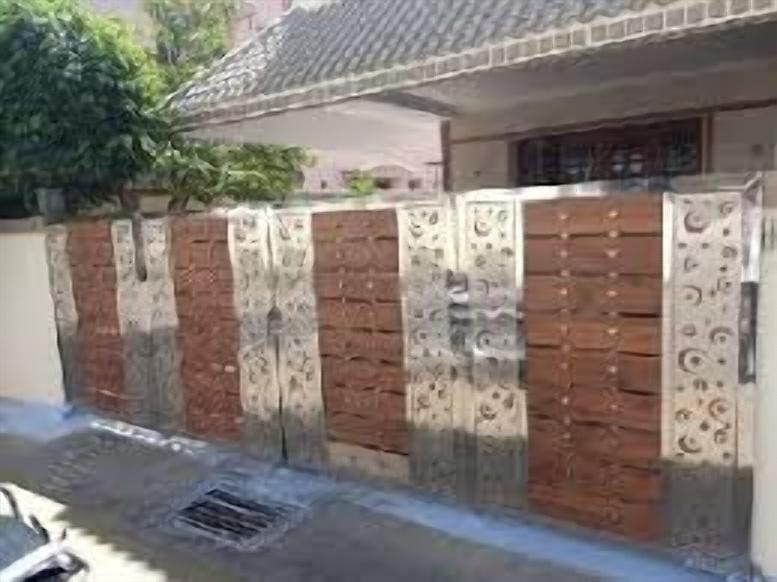Gate: (46, 172, 760, 567)
Window-without-grill: (512, 116, 700, 324)
